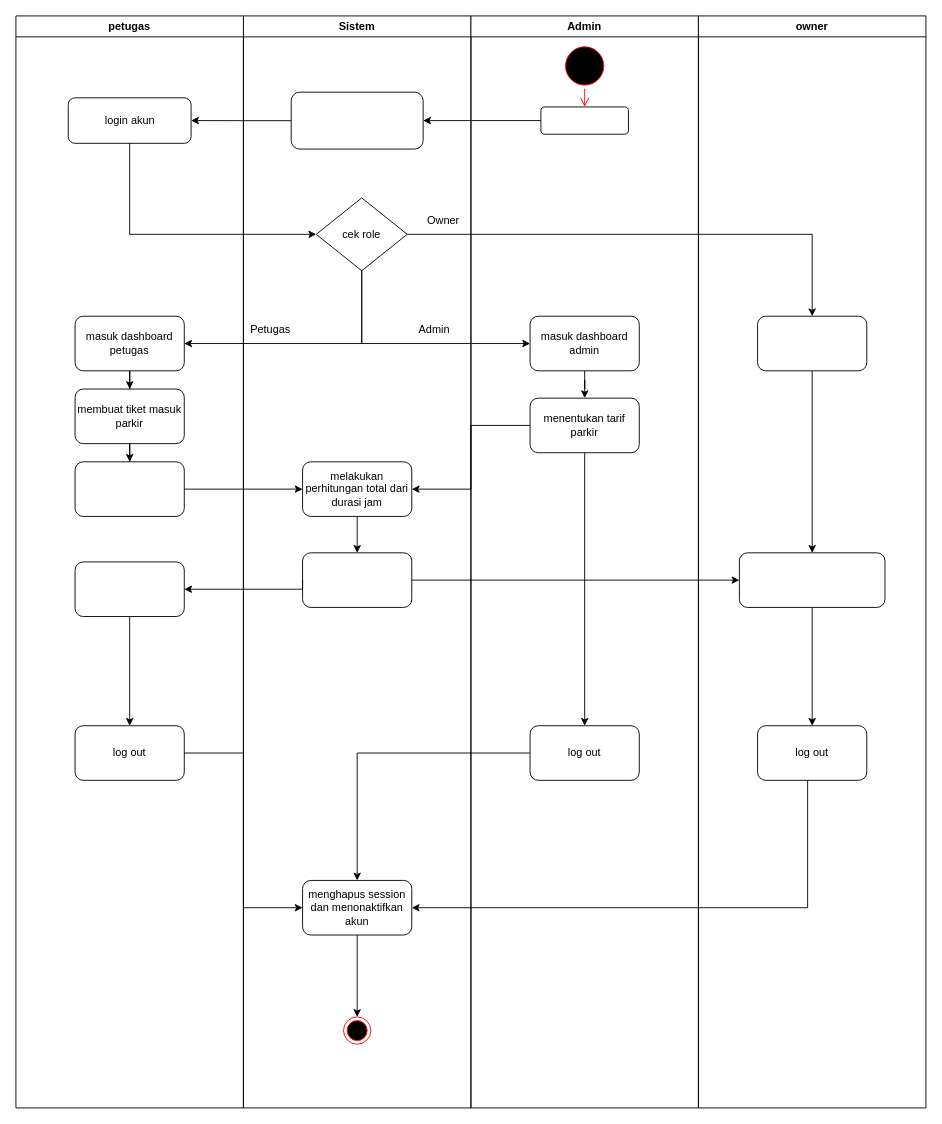
Some shapes in this 942 by 1124 pixel diagram are drawn without their labels. Here are the shapes that lost their labels. From the top down, the box of each, then its label:
(290, 91, 423, 149): memasukan data ke database
(540, 106, 628, 134): membuat akun user
(757, 315, 867, 371): masuk dashboard Owner
(74, 461, 184, 516): melakukan transaksi akhir
(74, 561, 184, 617): cetak pdf atau print struk
(302, 552, 412, 607): menambahkan ke riwayat transaksi
(738, 552, 885, 607): melihat rekap transaksi sesuai dengan waktu yang diminta
